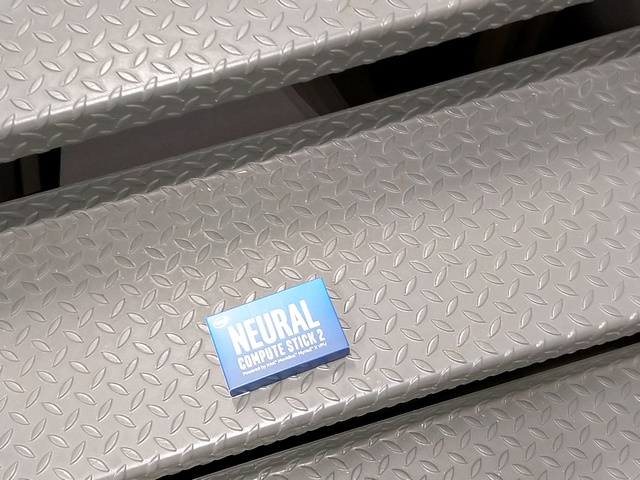box: (205, 275, 352, 398)
